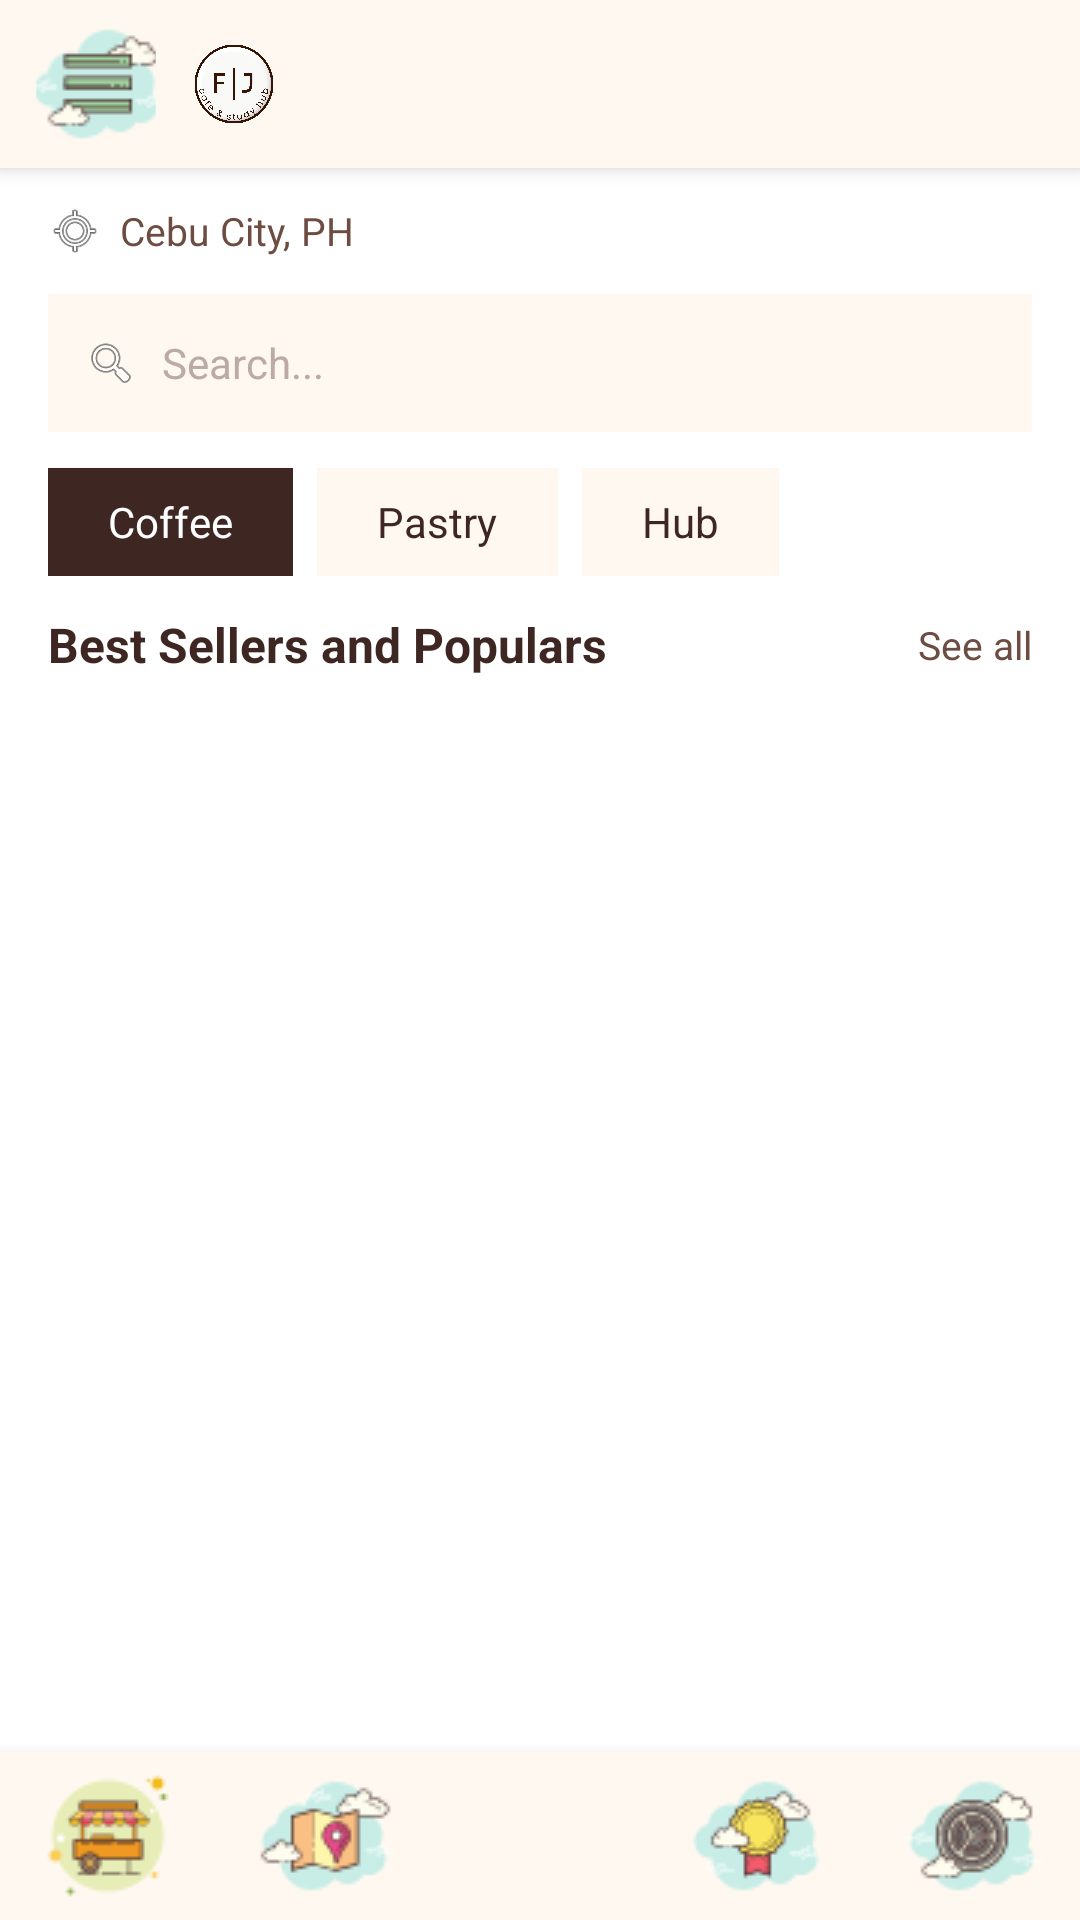

Where icons sit on this 1080px x 1920px app screen, as (left=x1, top=y1, right=x2, bottom=y2):
Menu: (left=36, top=30, right=156, bottom=138)
Rewards: (left=694, top=1782, right=818, bottom=1890)
